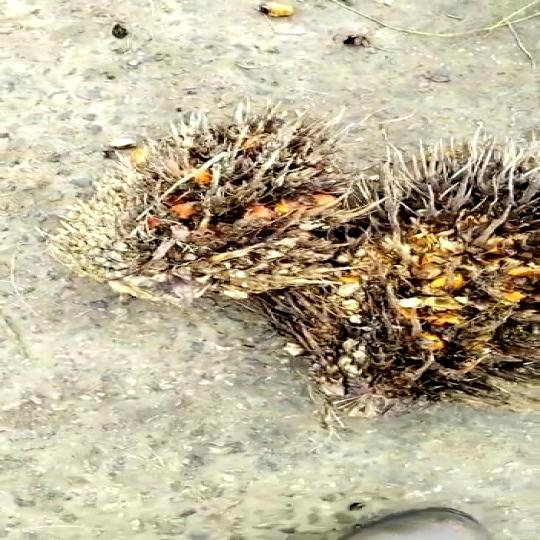terlalu masak: (250, 173, 540, 390), (64, 111, 357, 306), (106, 172, 142, 173)
